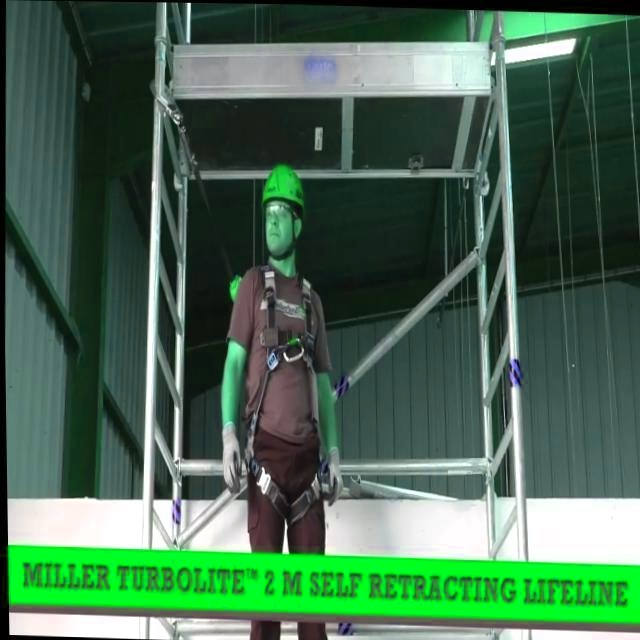safety belt: (216, 262, 338, 522)
